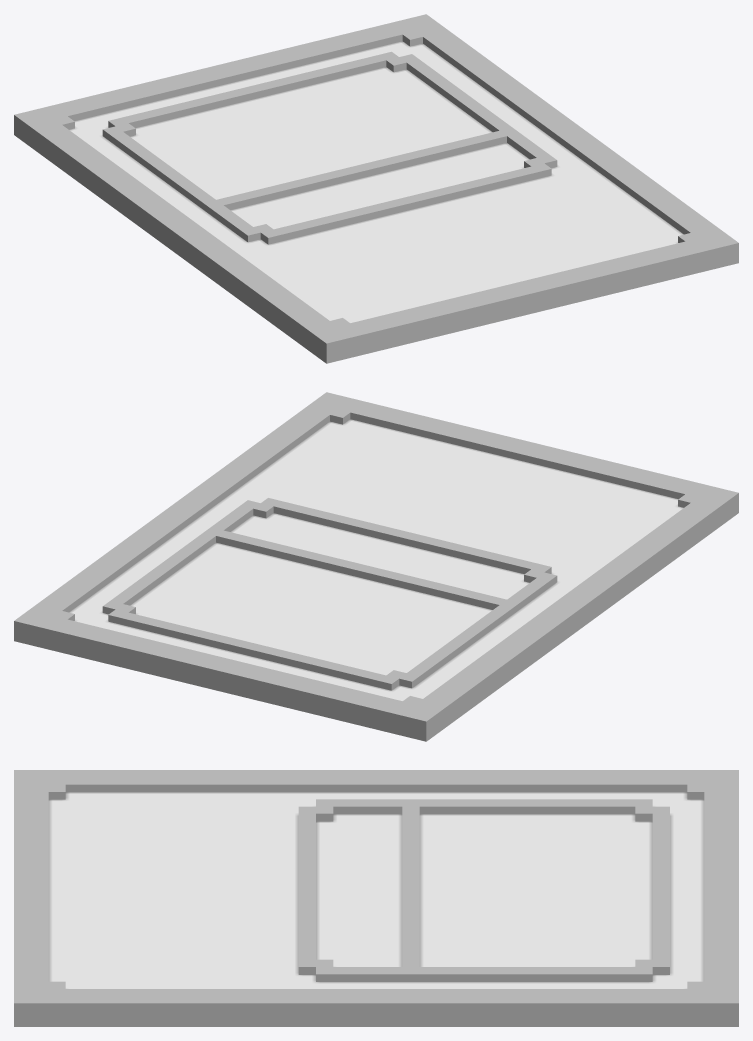
The model's file is buh.obj.
3 views of the same model, one above another, from view 1: azimuth 30°, elevation 25°; view 2: azimuth 150°, elevation 25°; view 3: azimuth 270°, elevation 25° (orthographic). The views are drawn at different scales.
Parts seen in each view (by area): view 1: cube; view 2: cube; view 3: cube.
Part boxes in pixels (x1,y1,x2,y2): cube: (14, 14, 738, 363); cube: (14, 392, 738, 741); cube: (14, 770, 738, 1026).
Bounding box in the file's own units: 4 × 0.1875 × 5.25.
